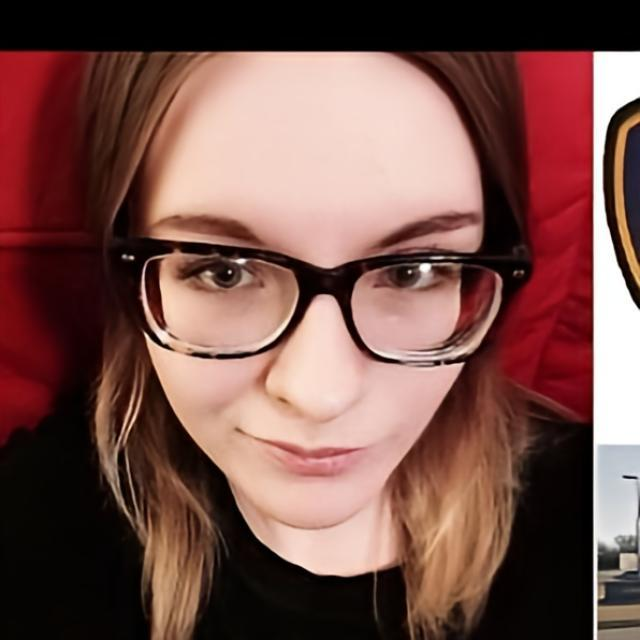content: (136, 52, 493, 530)
